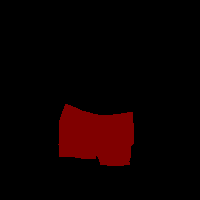mutande: (58, 103, 134, 166)
